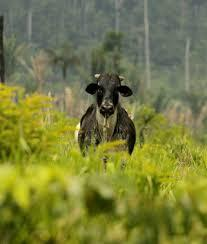cow: (77, 73, 136, 156)
